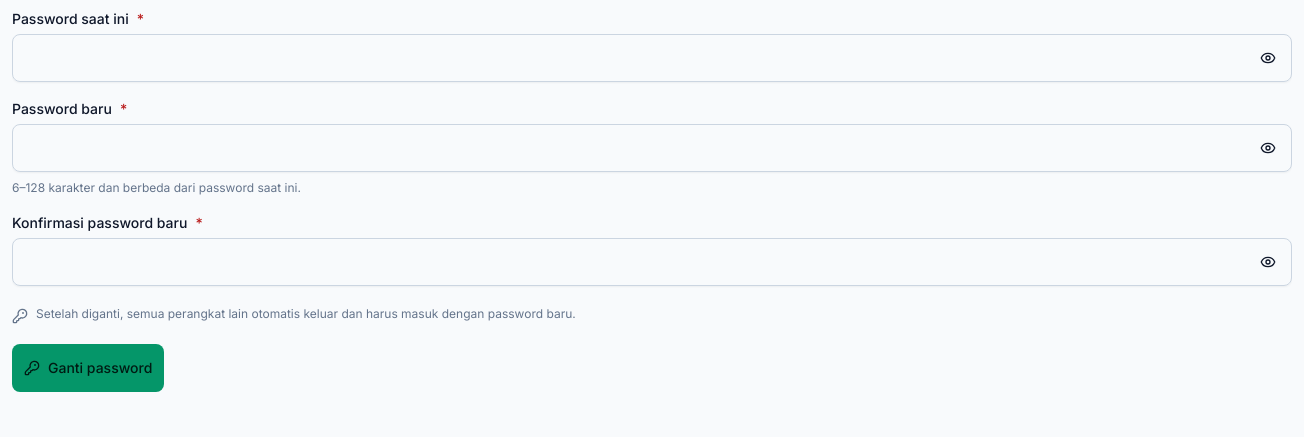
client-side checks (no request sent) › missing current password
Type "synthetic-new-password" into the password field labelled "Password baru *" at (652, 148), box x1=12 y1=124 x2=1292 y2=172
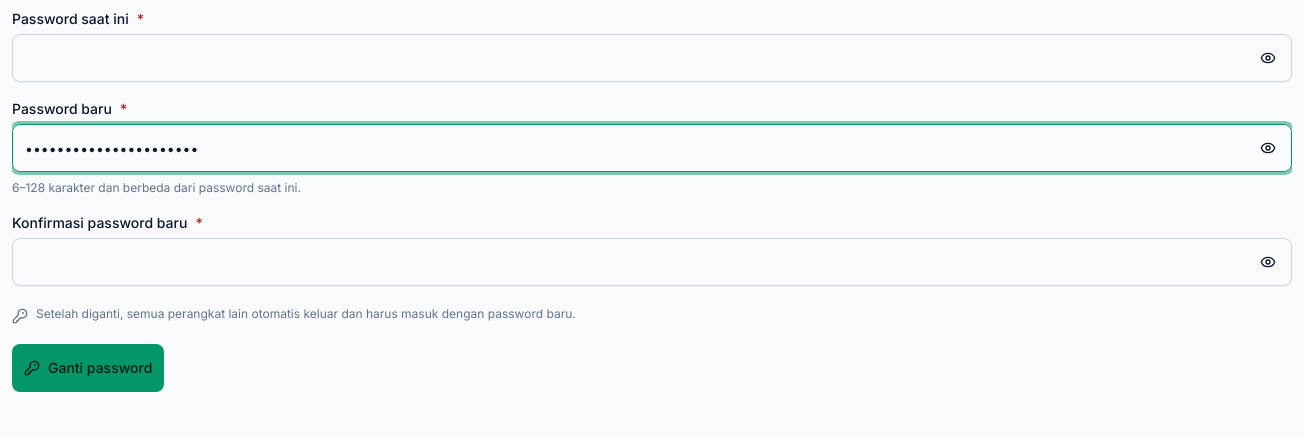
Type "synthetic-new-password" into the password field labelled "Konfirmasi password baru *" at (652, 262), box x1=12 y1=238 x2=1292 y2=286
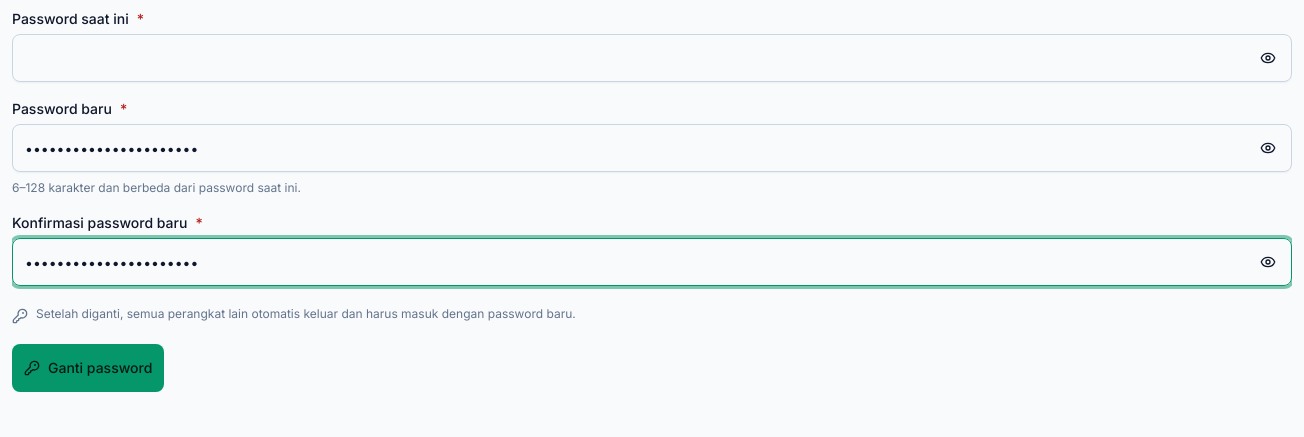
Click the button "Ganti password" at (88, 368), box x1=12 y1=344 x2=164 y2=392
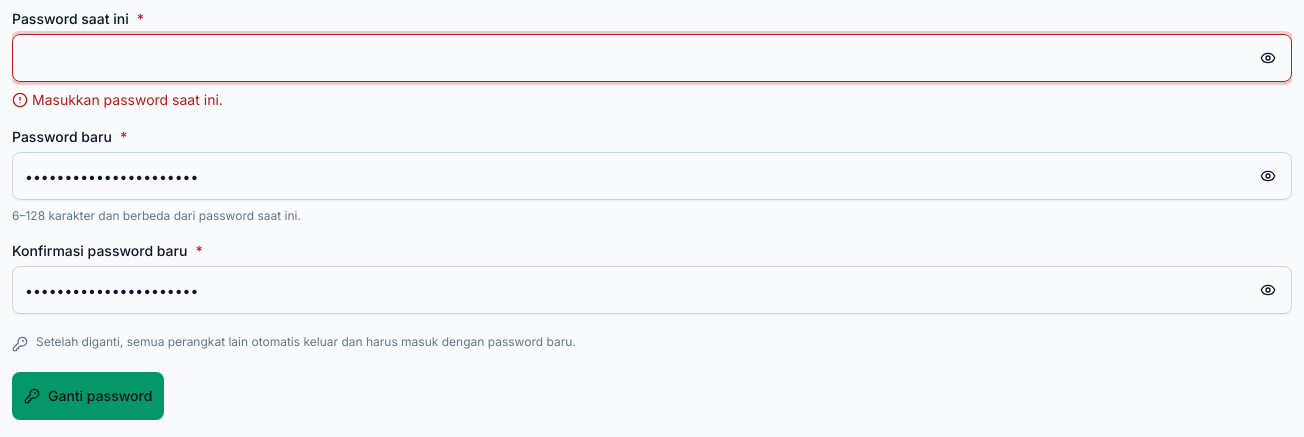
Now the element showing "Masukkan password saat ini." is shown, box x1=12 y1=91 x2=223 y2=108
